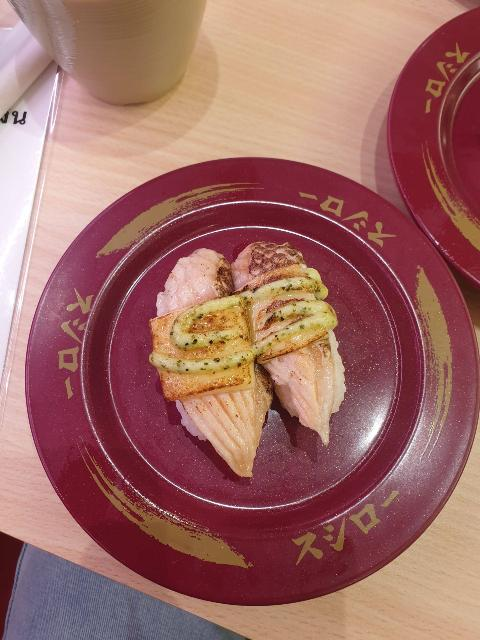janred: (40, 141, 459, 566), (398, 0, 480, 280)
